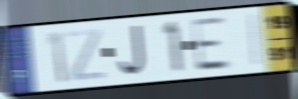1: (162, 20, 188, 76), (47, 29, 69, 86)
E: (190, 15, 232, 74)
I: (249, 11, 263, 69)
J: (118, 23, 146, 78)
Z: (66, 27, 105, 84)
